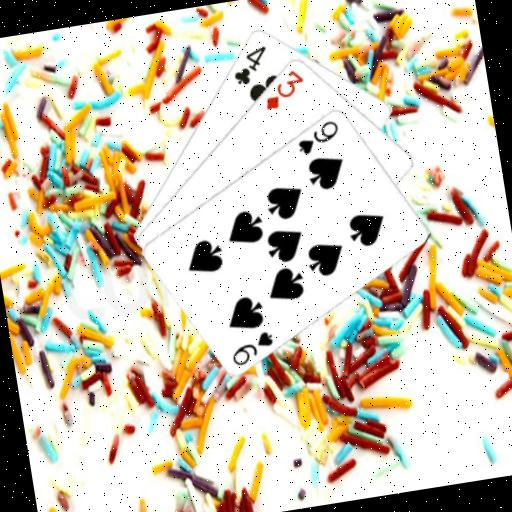3D: (257, 64, 309, 112)
4C: (226, 42, 272, 88)
9S: (292, 115, 344, 157), (225, 326, 277, 368)
